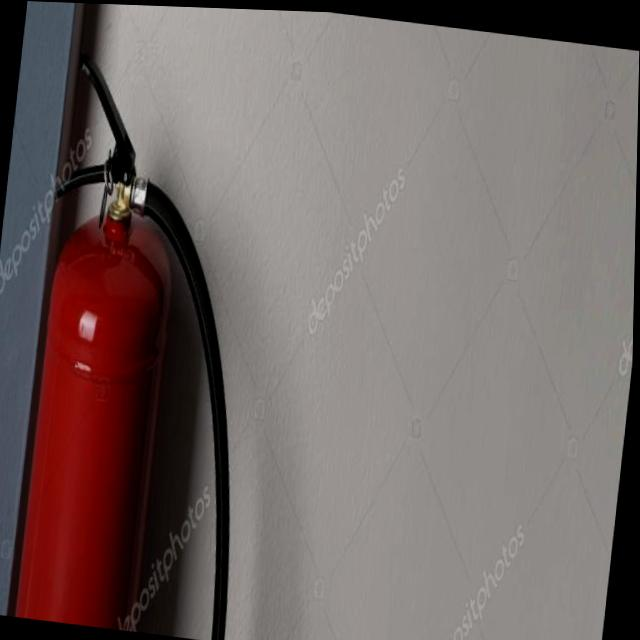FireExtinguisher: (4, 45, 291, 640)
